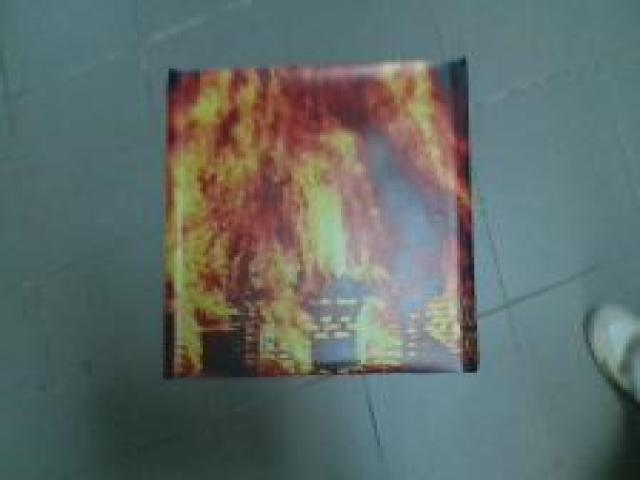fire-poster: (160, 56, 480, 381)
